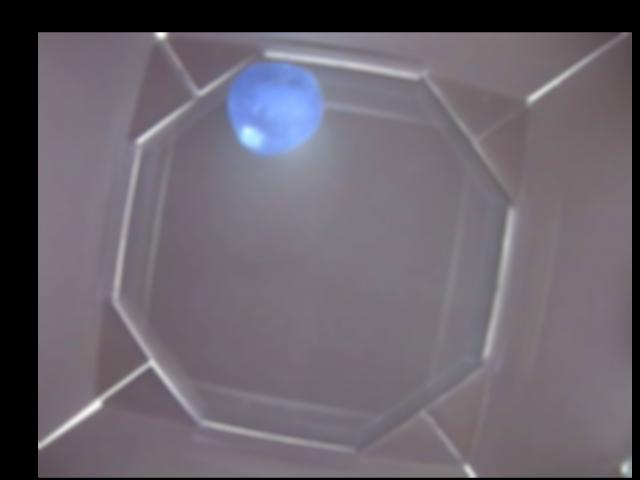Potato: (227, 61, 322, 154)
